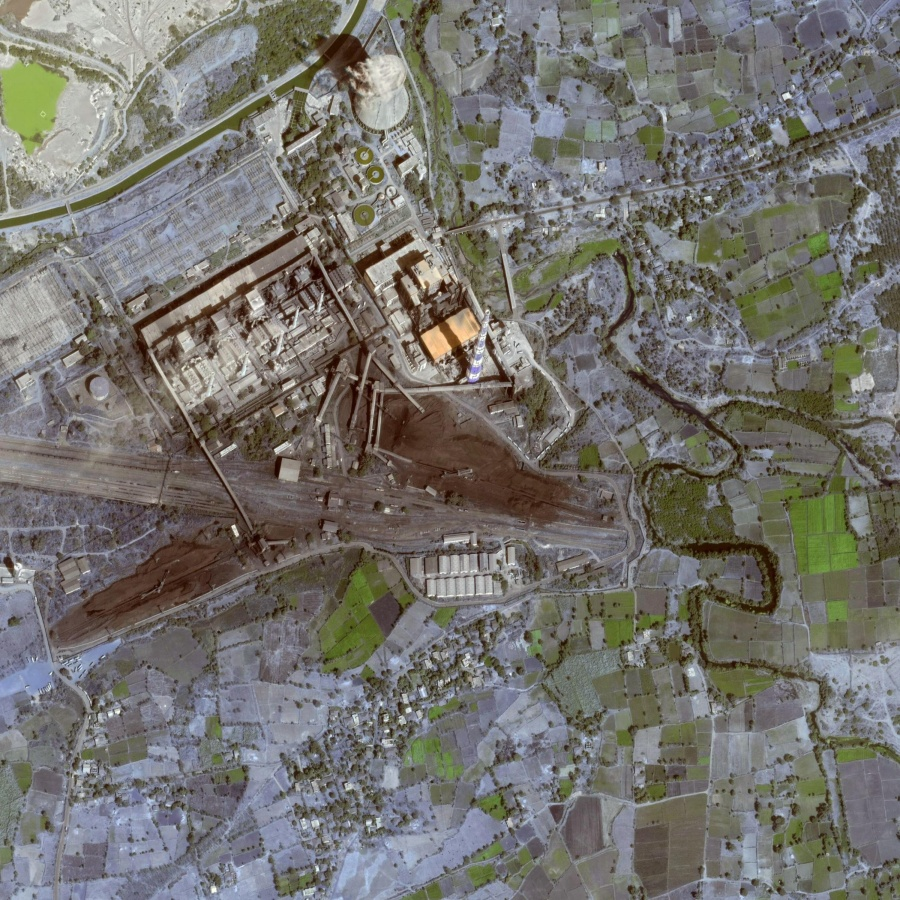PowerPlant: (48, 55, 602, 644)
